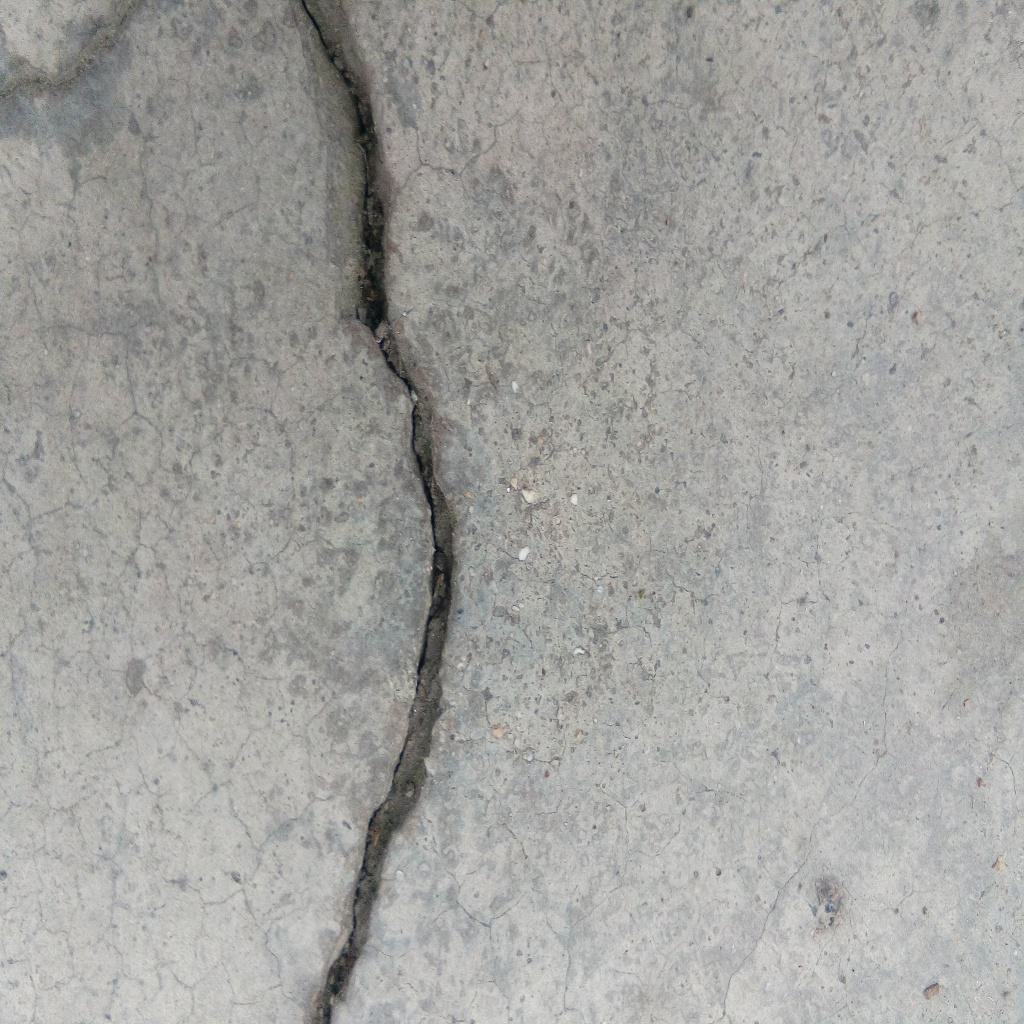Crack: (307, 1, 459, 1024)
